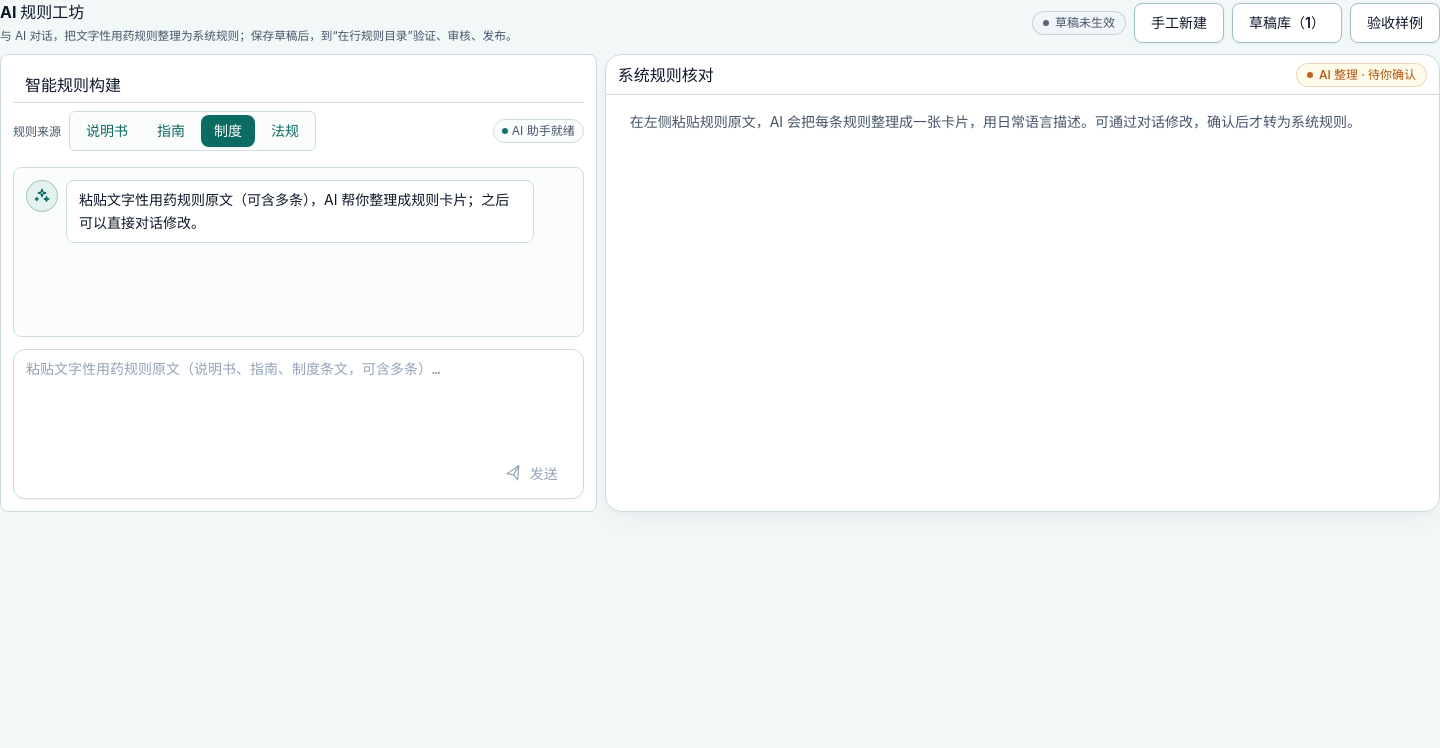
Test: interaction model exposes independent A and B ranges and routes without inventing a relation
This screenshot has width=1440, height=748.
Click the button "手工新建". click: (1179, 23)
box: [1134, 3, 1224, 43]
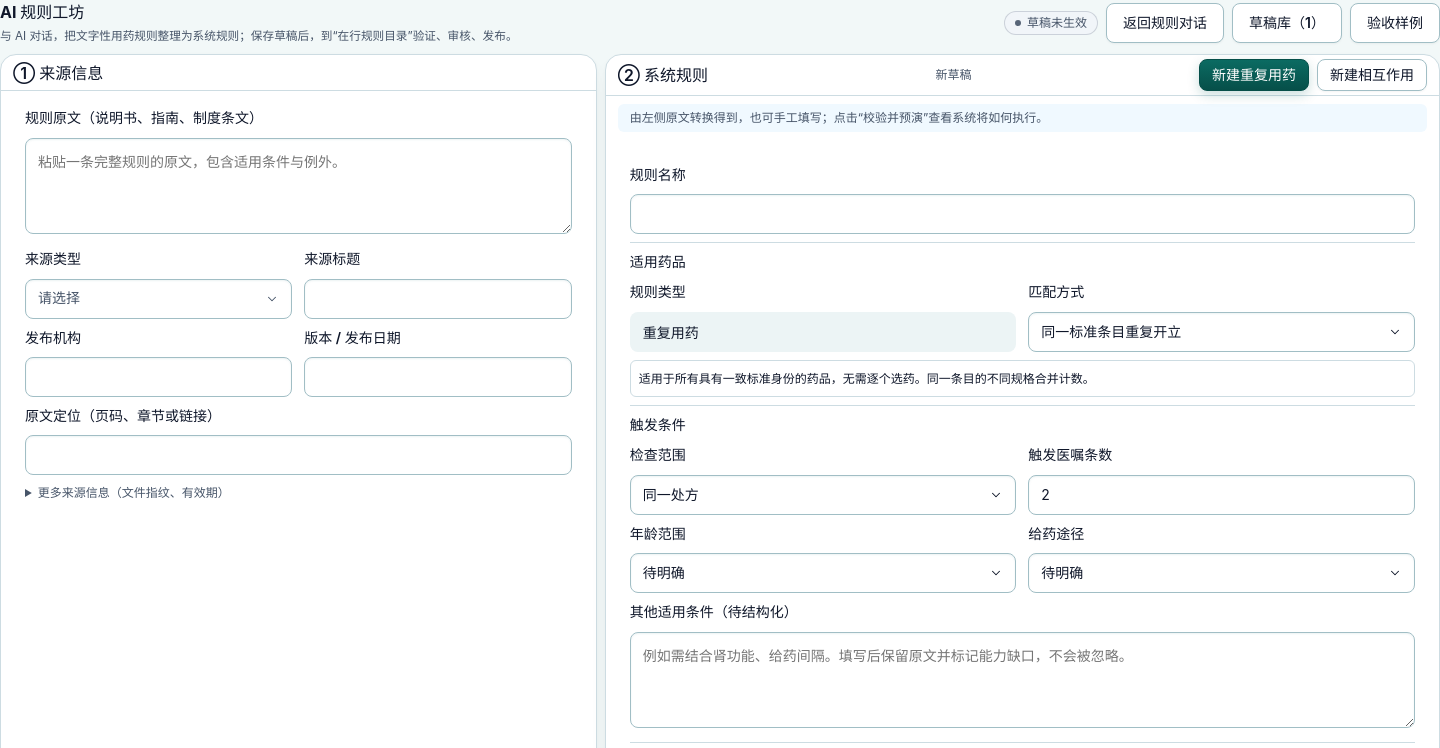
Click the button "新建相互作用". click: (1372, 75)
box: [1317, 59, 1427, 91]
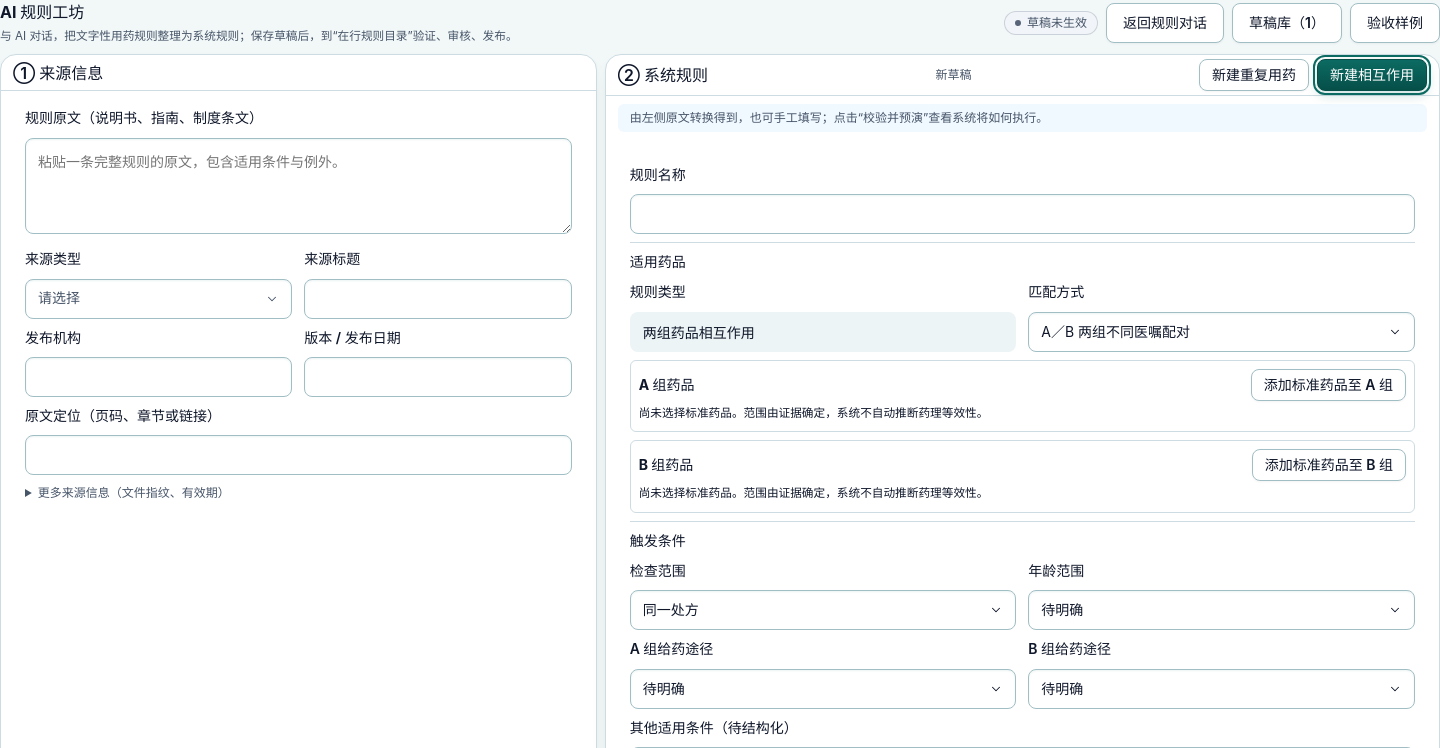
Expected: the button "添加标准药品至 A 组" is shown, [1251, 369, 1406, 401]
Expected: the button "添加标准药品至 B 组" is shown, [1252, 449, 1406, 481]
Expected: the dropdown named "A 组给药途径" is shown, [630, 669, 1016, 709]
